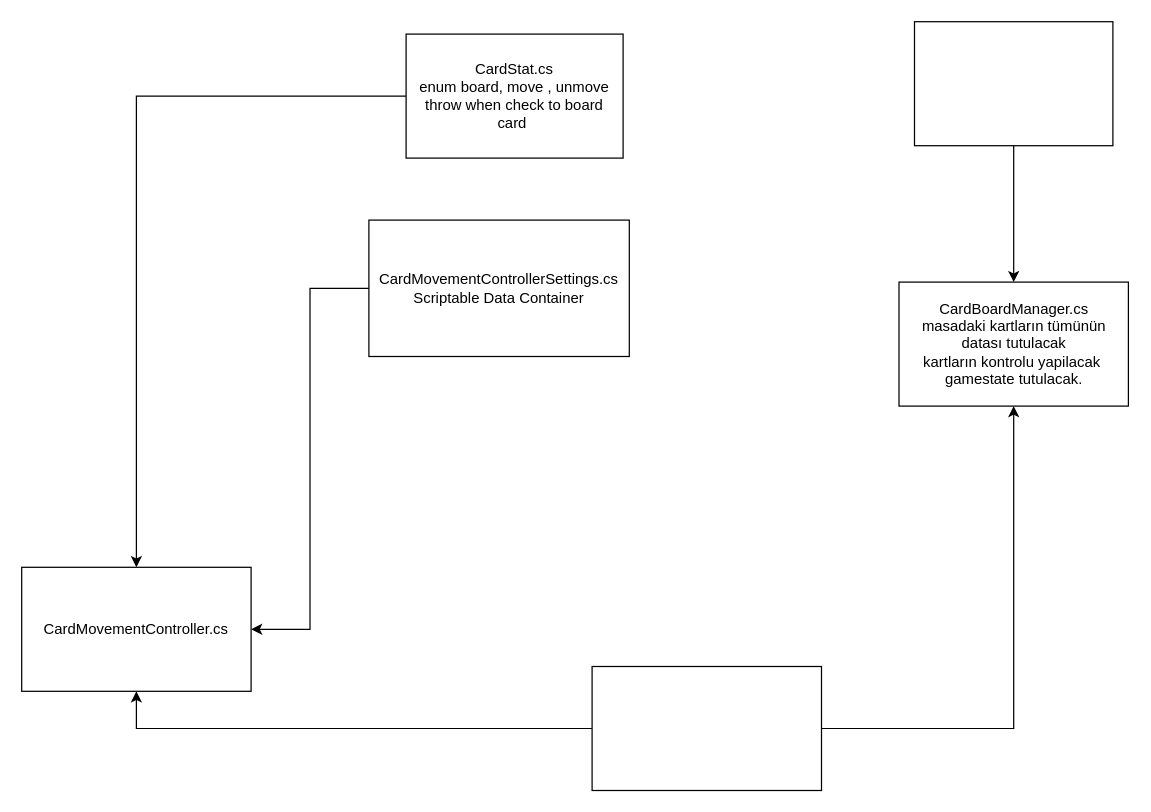
Image size: 1151x812. Some labels were removed from this diagram. The shapes that lost their labels are listed below. From the top down, each one's centre as x and y in pixels, then its label:
At pixel 1013 83: "CardManager.cs Initalize, StartMove".
At pixel 706 727: "CardTouchController.cs when touched to card event-base => touched".
